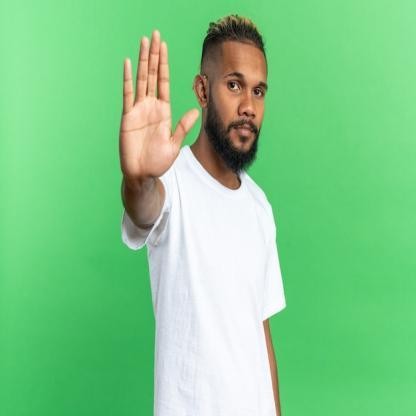stop: (119, 26, 200, 184)
